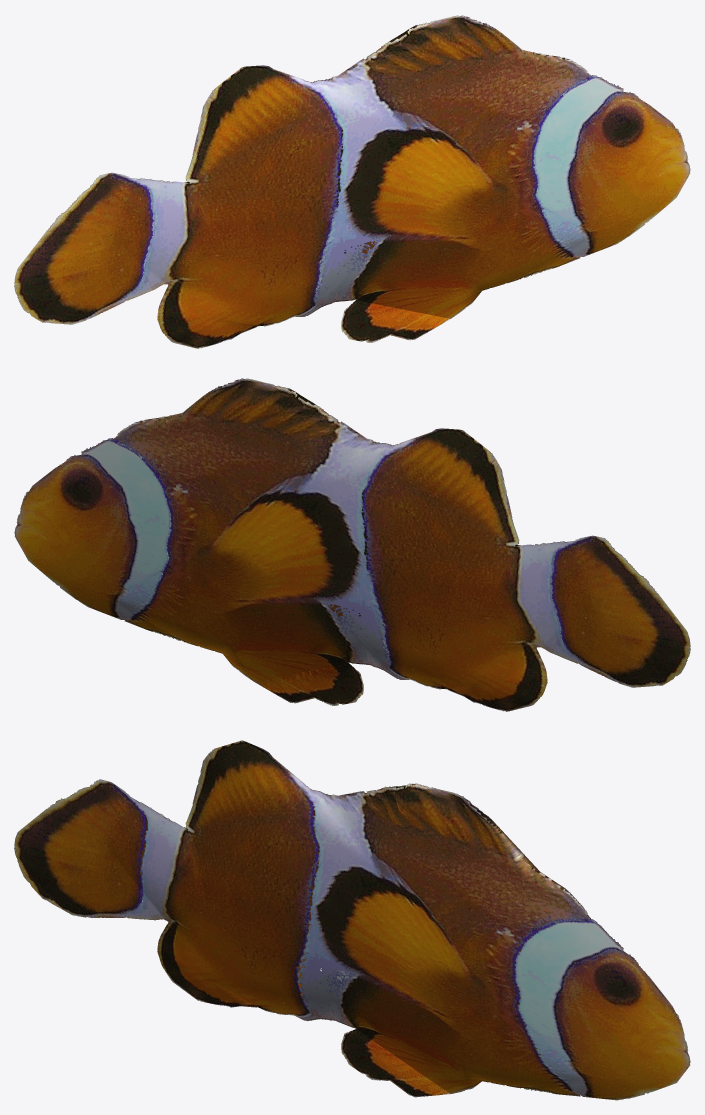
Rendered from SM_ClownFish.fbx.
The picture shows the model from 3 angles, top to bottom: view 1: azimuth 30°, elevation 25°; view 2: azimuth 150°, elevation 25°; view 3: azimuth 330°, elevation 25°; orthographic projection.
Parts seen in each view (by area): view 1: SM_ClownFIsh; view 2: SM_ClownFIsh; view 3: SM_ClownFIsh.
Part boxes in pixels (x1=…): SM_ClownFIsh: x1=14, y1=15, x2=690, y2=348; SM_ClownFIsh: x1=14, y1=378, x2=690, y2=711; SM_ClownFIsh: x1=14, y1=740, x2=690, y2=1100.
Bounding box in the file's own units: 23.28 × 10.38 × 1.92.
Materials: 1 (1 with a texture image).
